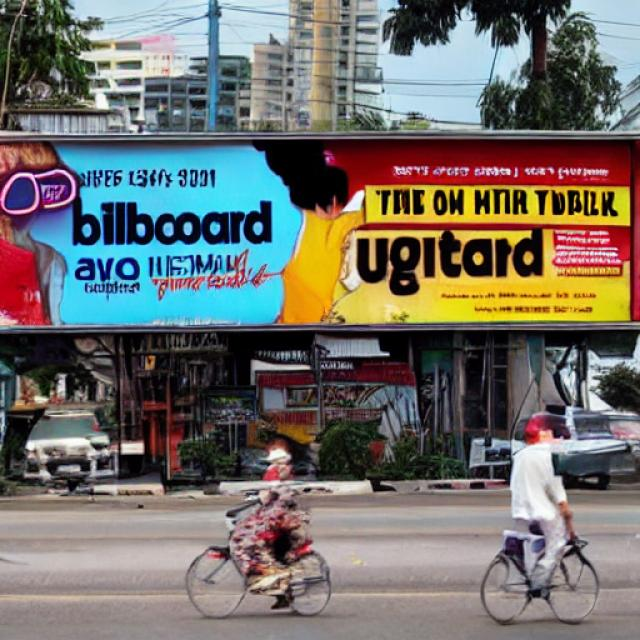Billboard: (0, 132, 640, 336)
